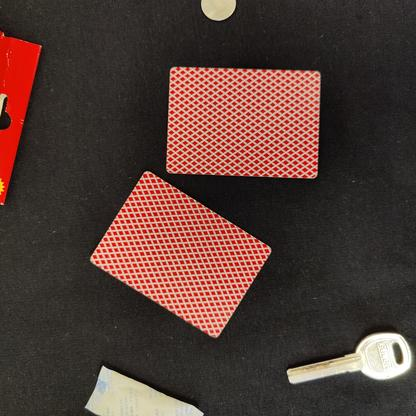card: (87, 170, 276, 341), (162, 62, 325, 183)
